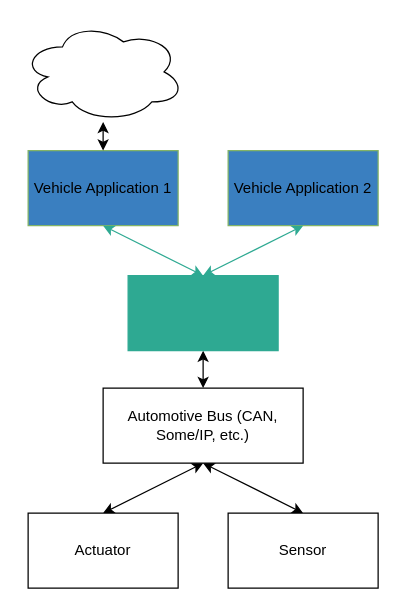
Image size: 400x610. Some labels were removed from this diagram. Here are the shapes that lost their labels. From the top down, the centre of each, then its label:
At point (102, 71): "potential Off-Board Backend".
At point (202, 312): "Vehicle Abstraction Layer".
